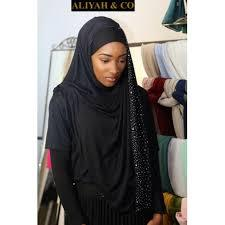No Mask: (83, 32, 150, 128)
